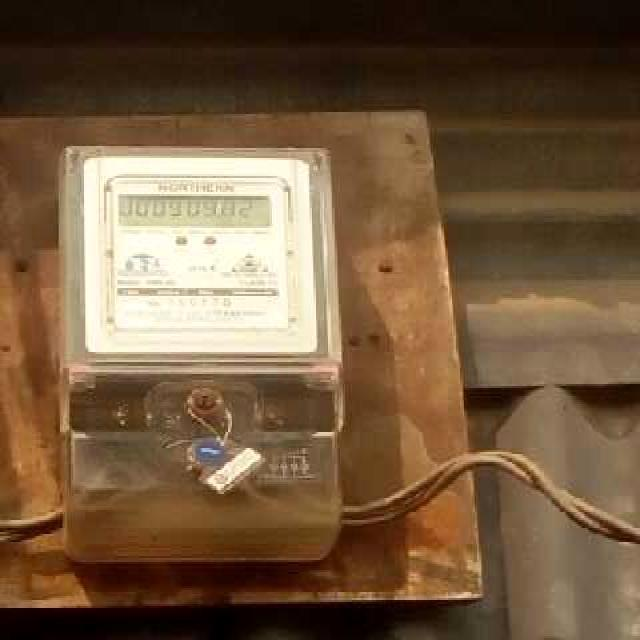LCD: (109, 185, 282, 234)
